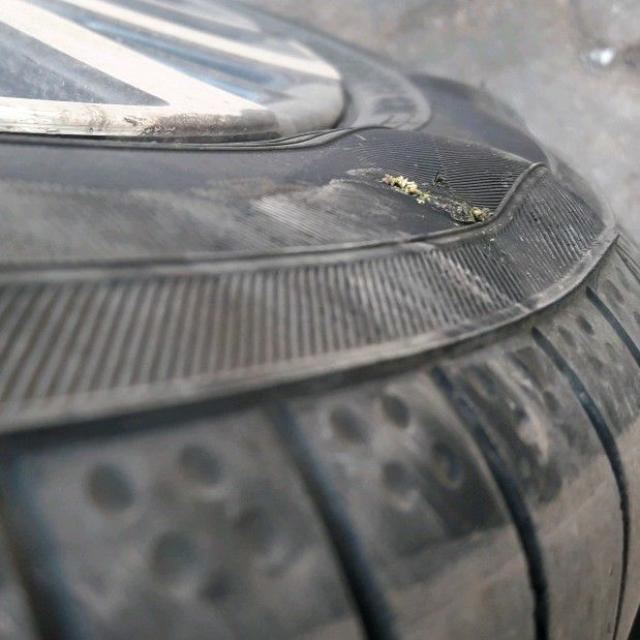Bulge: (343, 102, 626, 263)
